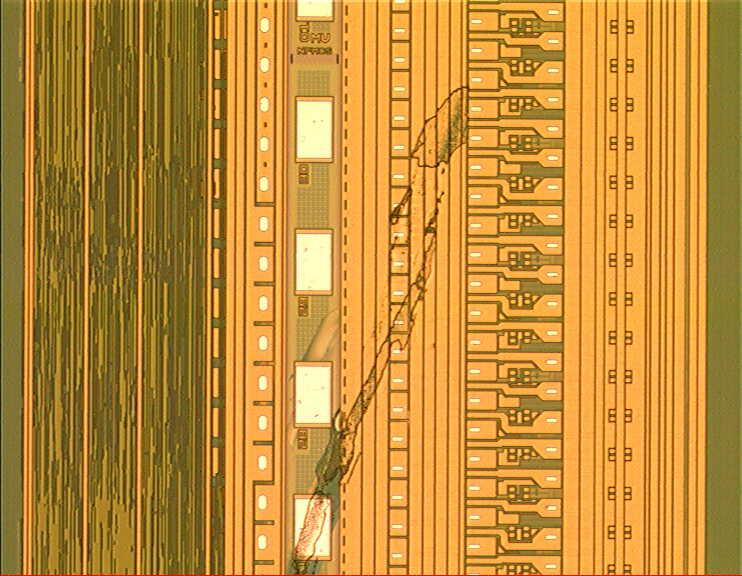SCRATCH: (270, 84, 479, 576)
